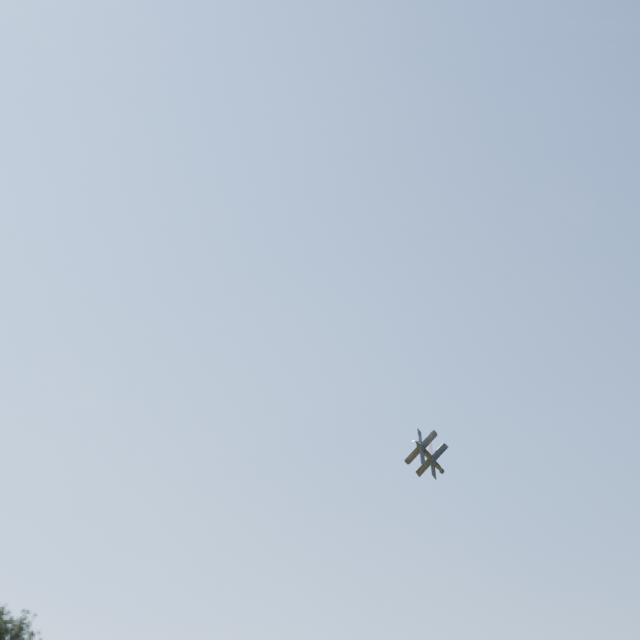Airaplan: (404, 428, 449, 481)
